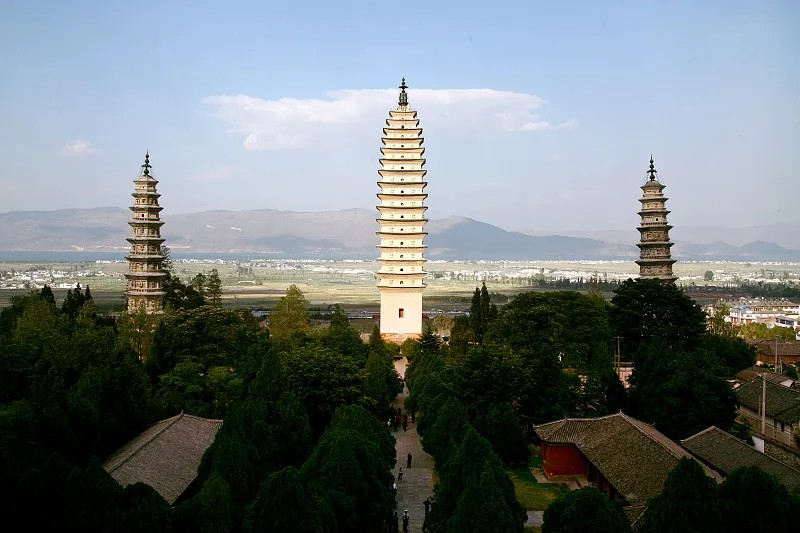ThreePagoda: (376, 78, 427, 335)
